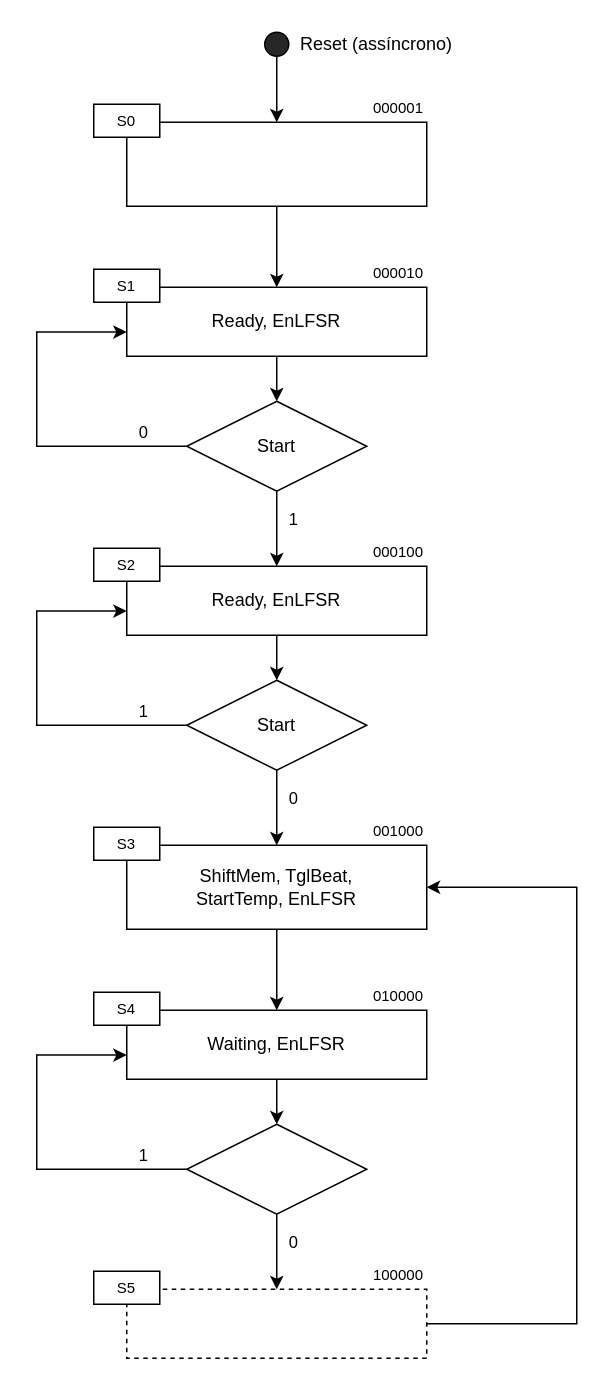
Image size: 615x1385. Some labels were removed from this diagram. Each missing label, with the centre of its shape:
ClrMem, InitLFSR, RstTemp, EnLFSR: the point at 276,163
Faster, EnLFSR: the point at 276,1323
Tempo: the point at 276,1168
